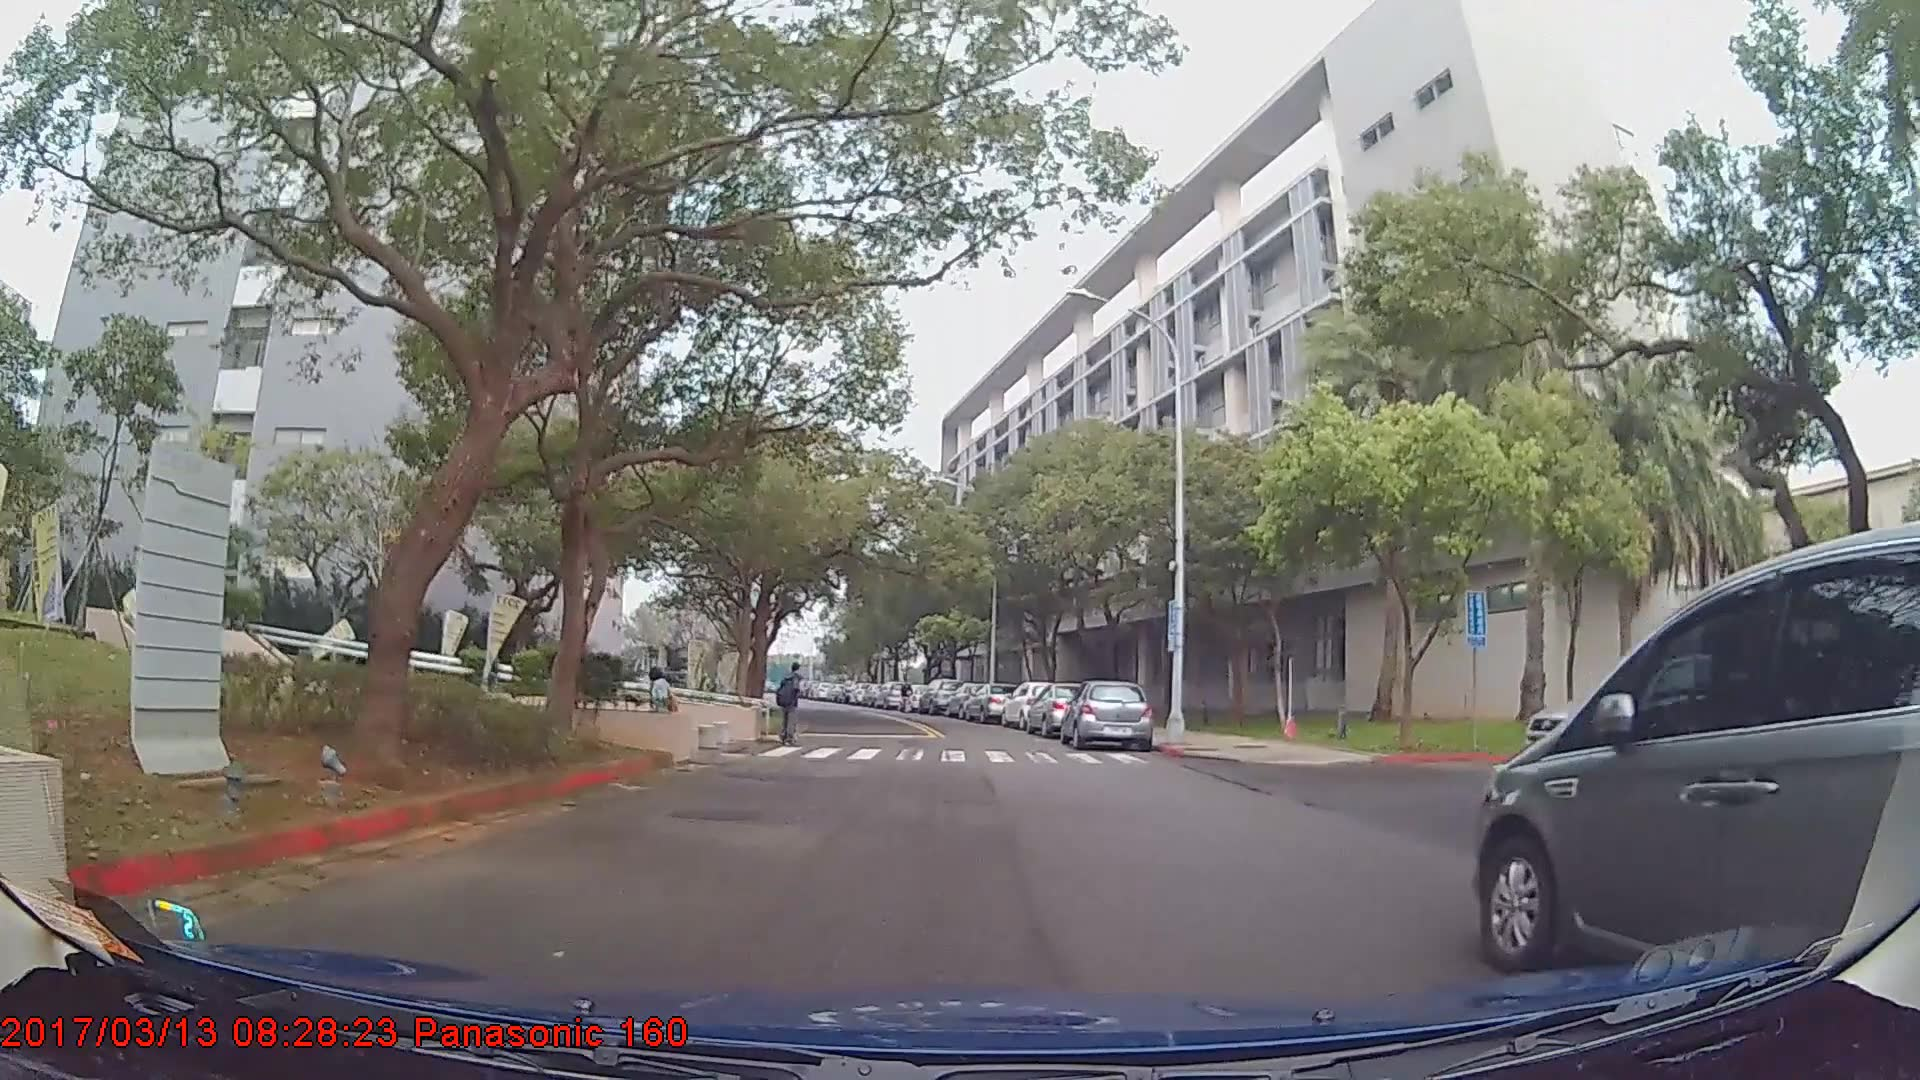pedestrian: (638, 668, 681, 755), (775, 662, 806, 751)
vehicle: (1473, 523, 1920, 984), (1060, 679, 1150, 752), (1021, 680, 1106, 736), (997, 678, 1068, 734), (962, 681, 1012, 720), (918, 678, 962, 715)
